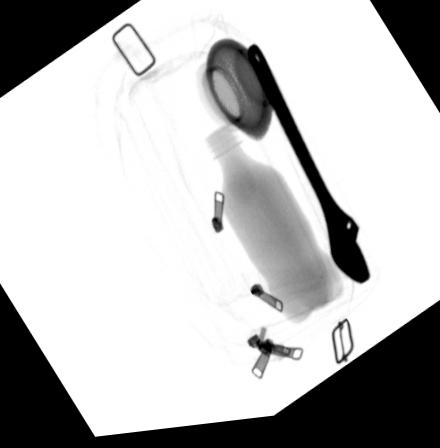Wrench: (245, 47, 372, 295)
